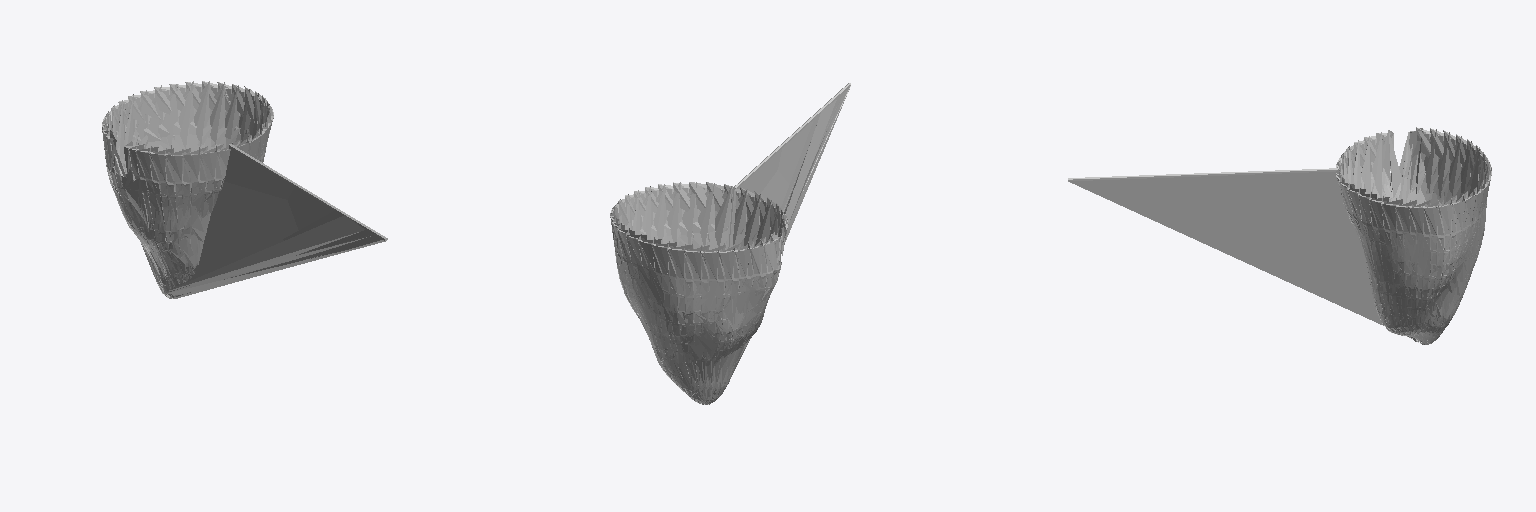
The model's file is Fishing net.obj.
3 views of the same model, side by side, from view 1: azimuth 30°, elevation 25°; view 2: azimuth 150°, elevation 25°; view 3: azimuth 270°, elevation 25° (orthographic).
Visible parts, largest first — view 1: Sphere001, Cylinder001; view 2: Sphere001; view 3: Sphere001, Cylinder001.
Part boxes in pixels (x1,y1,x2,y2): Sphere001: (102, 81, 385, 298); Cylinder001: (229, 144, 387, 240); Sphere001: (610, 86, 850, 404); Sphere001: (1068, 127, 1491, 344); Cylinder001: (1068, 168, 1338, 180).
Bounding box in the file's own units: 576260 × 647135 × 1343394.